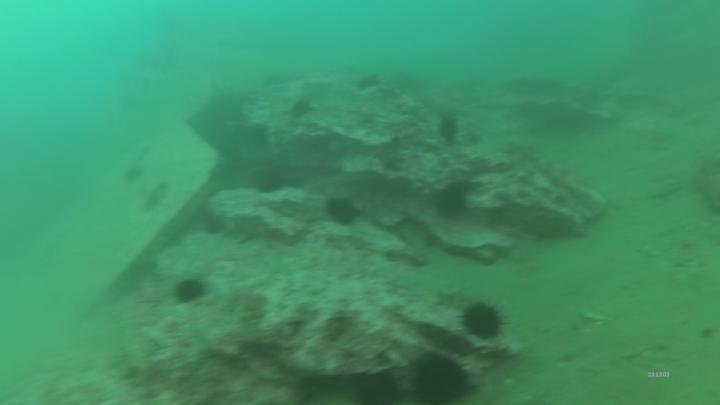echinus: (408, 350, 476, 404), (458, 299, 507, 343), (351, 369, 404, 404), (431, 180, 473, 221), (322, 194, 362, 229), (171, 275, 209, 307), (139, 179, 172, 215), (435, 112, 462, 146), (252, 168, 284, 193), (120, 161, 147, 187), (287, 96, 315, 121), (354, 70, 383, 94)
